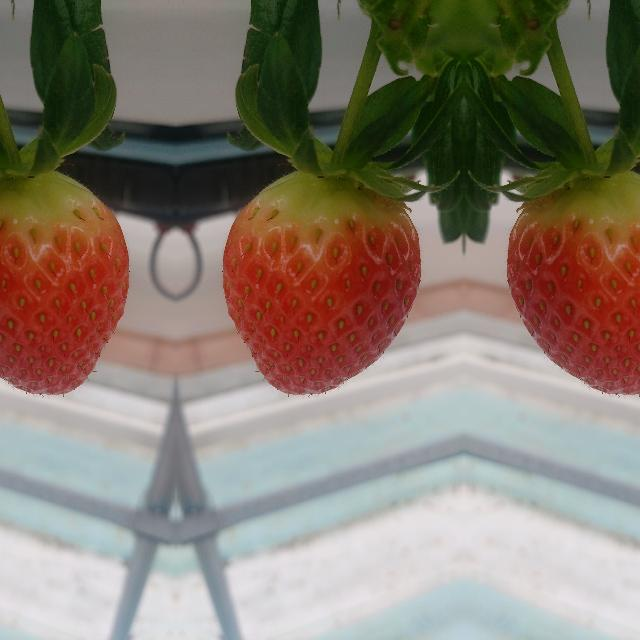Health_100: (222, 172, 420, 394), (506, 171, 640, 394), (0, 171, 128, 394)
